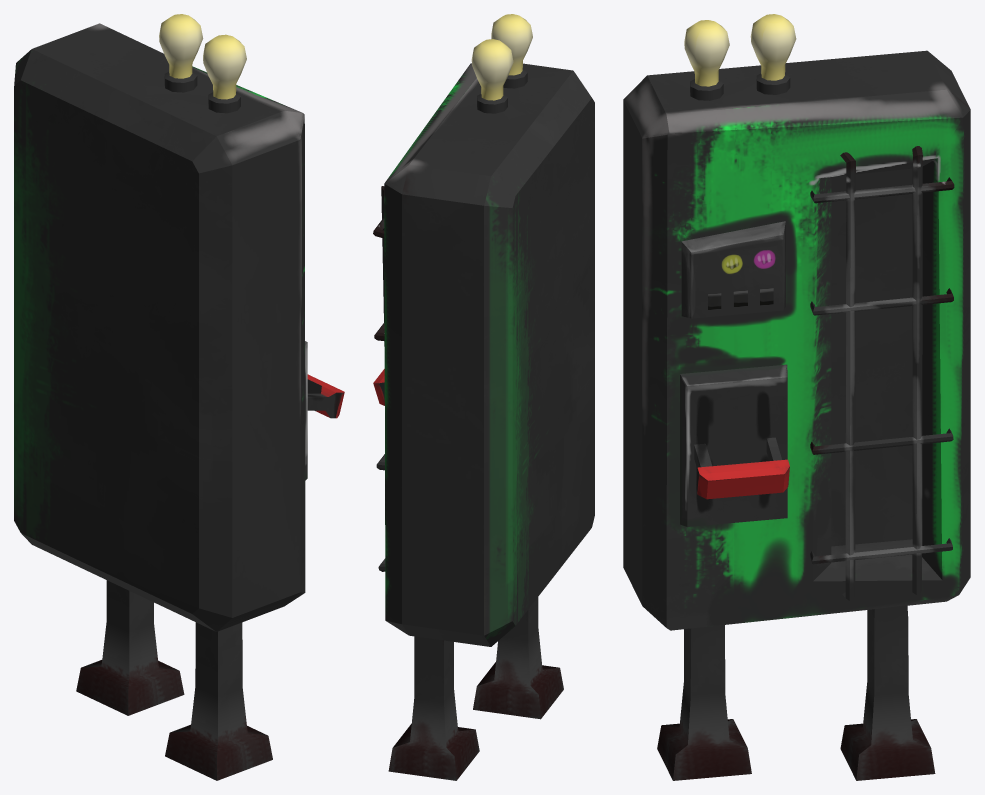
File: Controls.FBX
3 renders of one model, left to right at view 1: azimuth 30°, elevation 25°; view 2: azimuth 150°, elevation 25°; view 3: azimuth 270°, elevation 25°, orthographic. The views are drawn at different scales.
Parts seen in each view (by area): view 1: Controls; view 2: Controls; view 3: Controls.
Part boxes in pixels (<box>): Controls: <box>14,14,344,780</box>; Controls: <box>373,14,594,780</box>; Controls: <box>623,14,970,780</box>.
Size of the model in its own units: 0.5513 by 0.7081 by 1.66.
